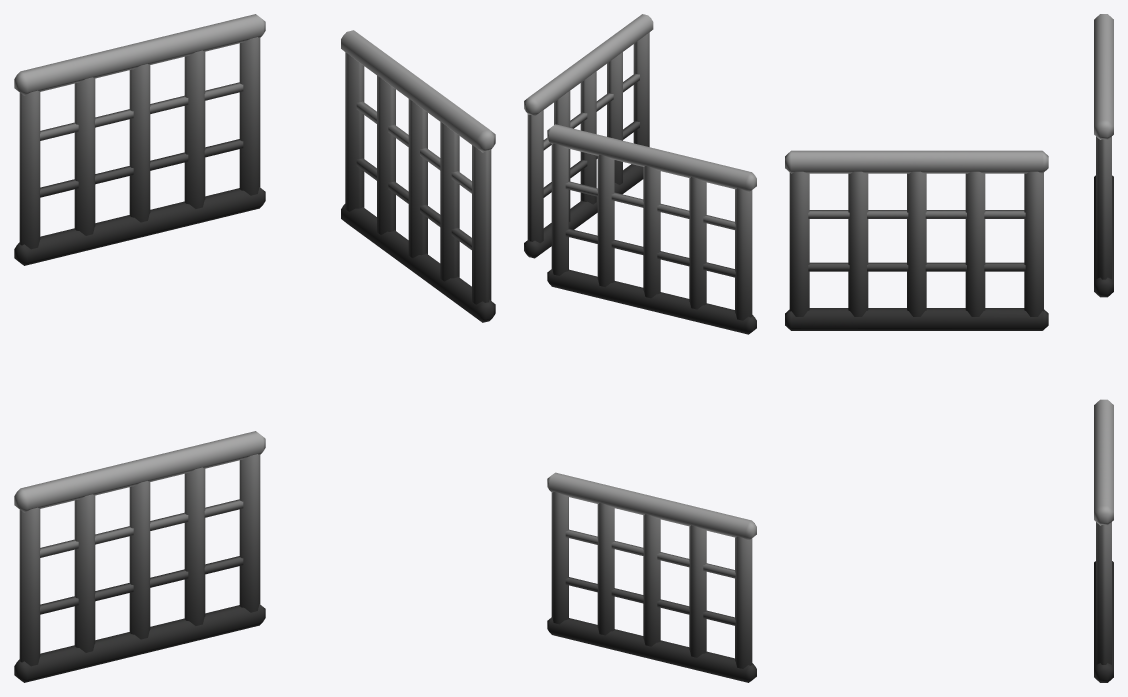
Rendered from SM_Wood_Window_07.fbx.
3 views of the same model, side by side, from view 1: azimuth 30°, elevation 25°; view 2: azimuth 150°, elevation 25°; view 3: azimuth 270°, elevation 25° (orthographic). The views are drawn at different scales.
Parts seen in each view (by area): view 1: SM_Wood_Window_07; view 2: SM_Wood_Window_07; view 3: SM_Wood_Window_07.
Part boxes in pixels (<box>): SM_Wood_Window_07: <box>14,14,495,682</box>; SM_Wood_Window_07: <box>524,14,756,682</box>; SM_Wood_Window_07: <box>785,14,1113,682</box>.
Size of the model in its own units: 0.7772 by 1.46 by 0.7726.
